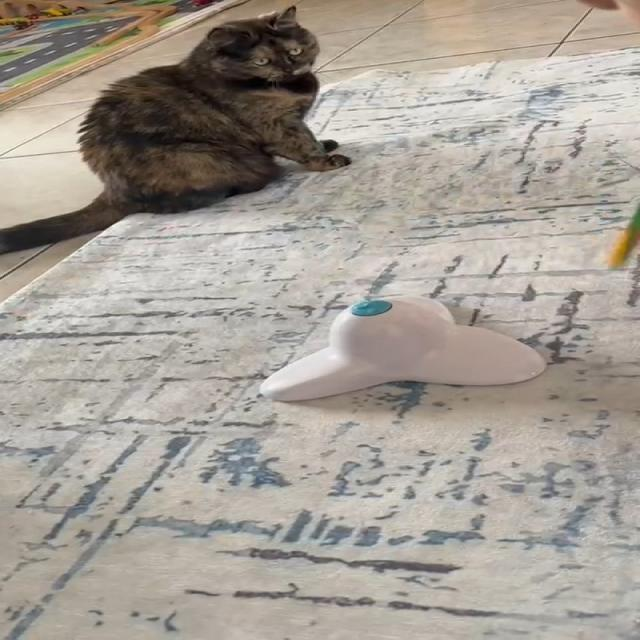authorized: (0, 4, 351, 256)
